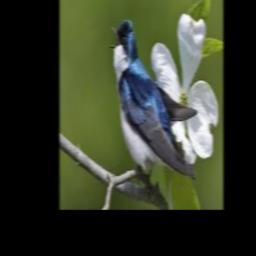Swallow: (109, 19, 197, 184)
